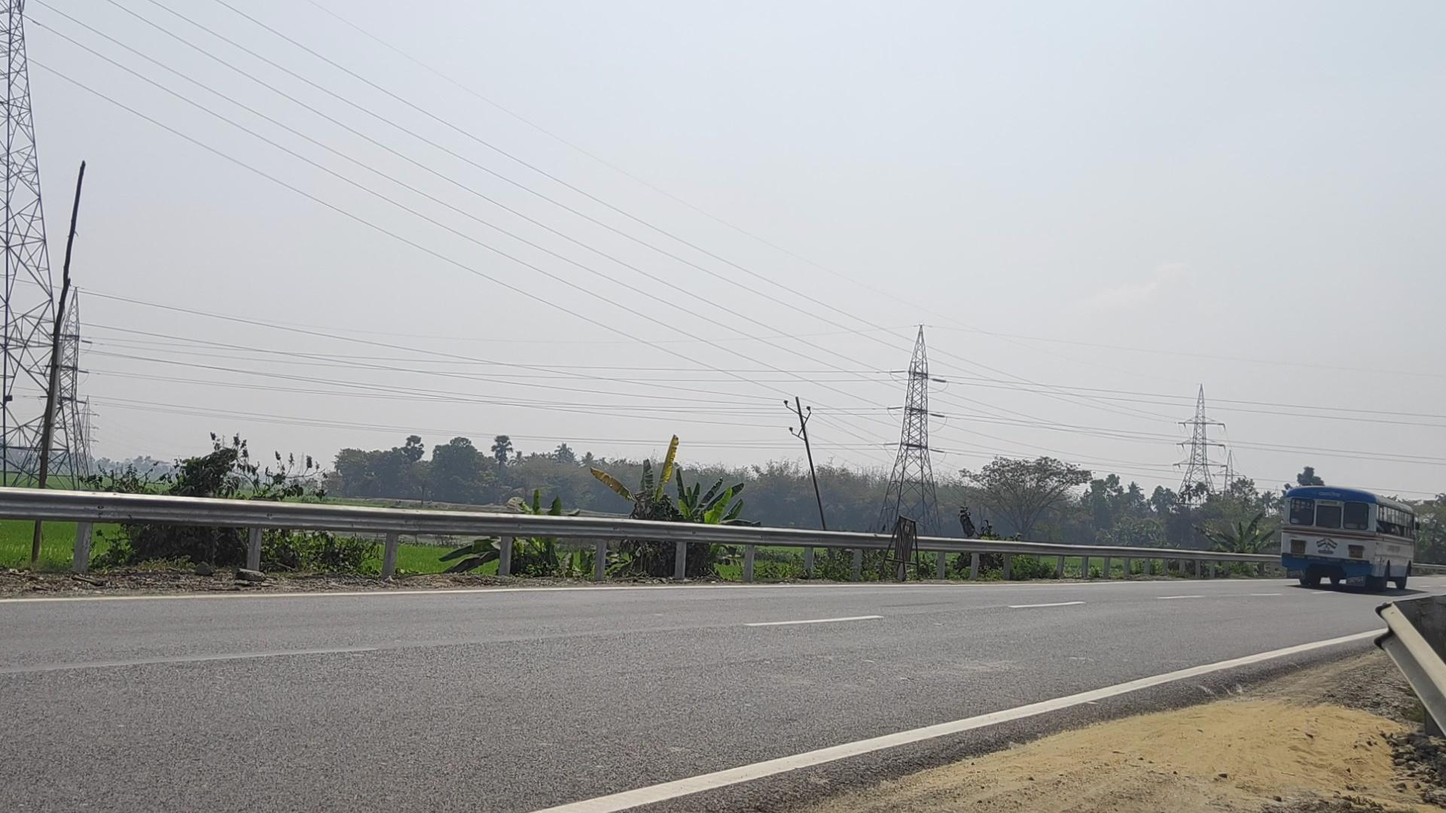Bus: (1281, 486, 1420, 592)
